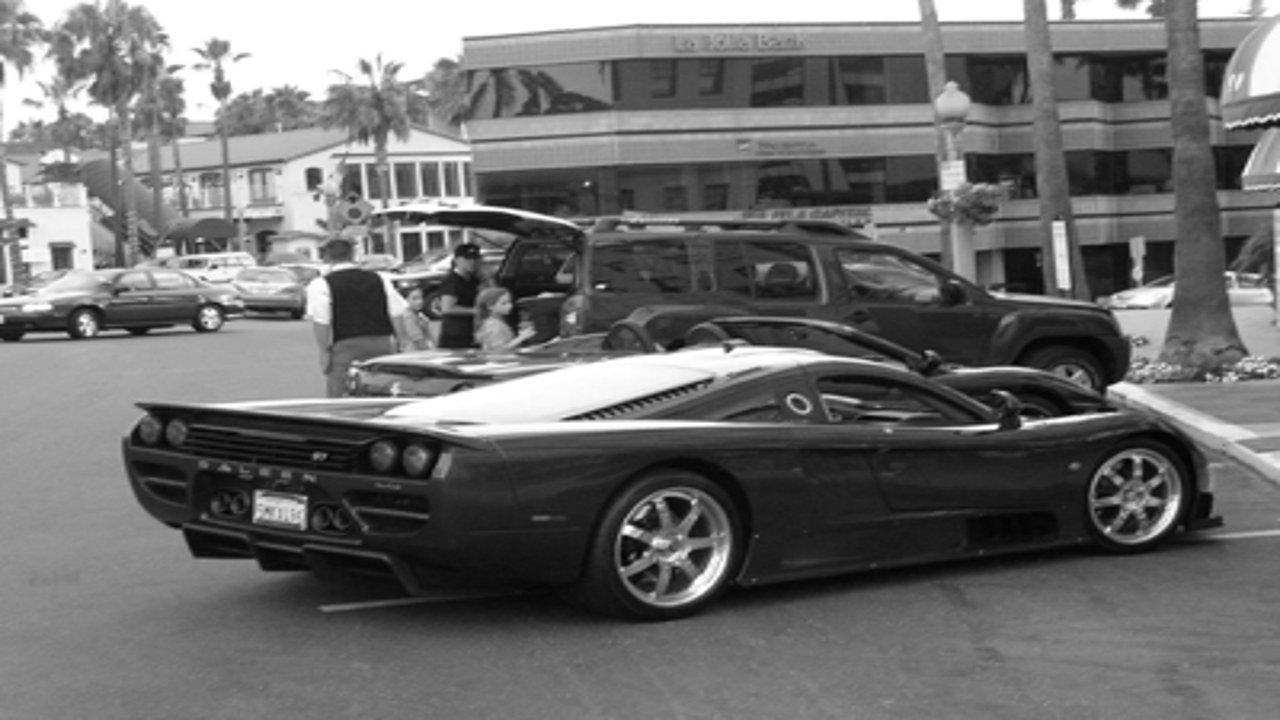license: (245, 479, 321, 535)
